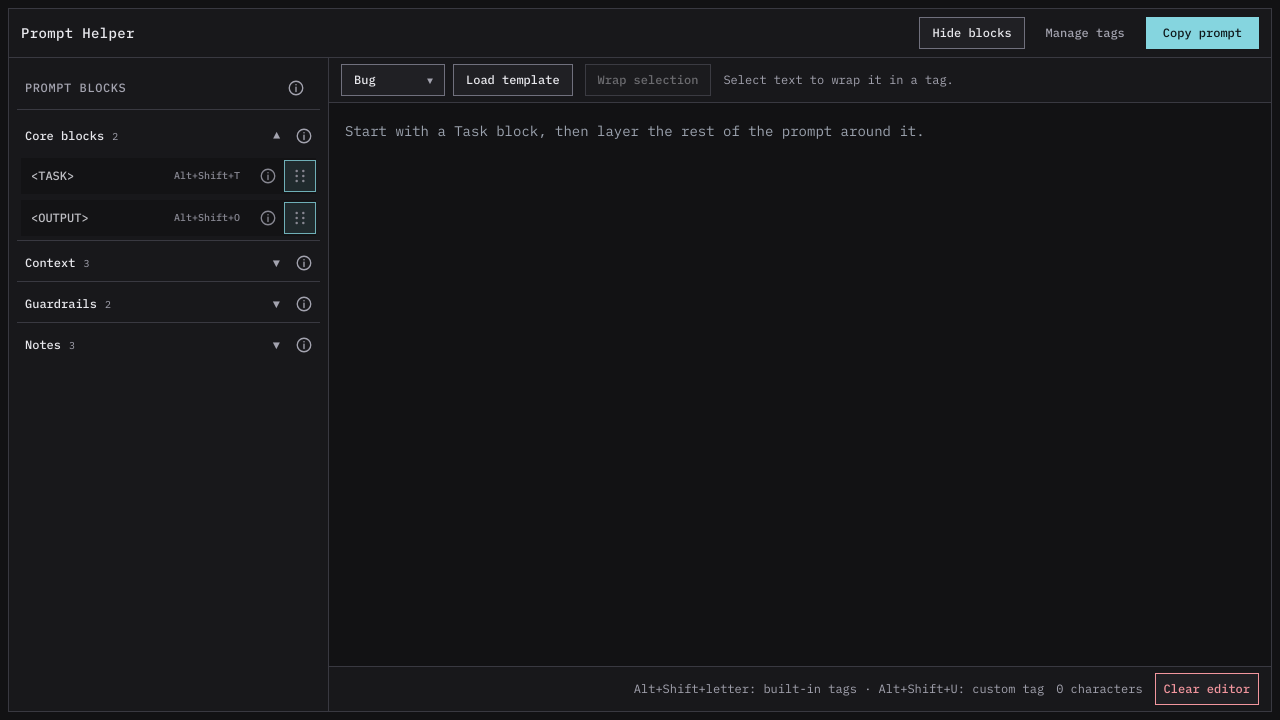
Scenario: Prompt Helper › uses the browser text editing path for selection replacement and deletion
Step 1. Type "Replace this" into the text box named "Prompt editor" → (800,384), box [329, 103, 1271, 666]
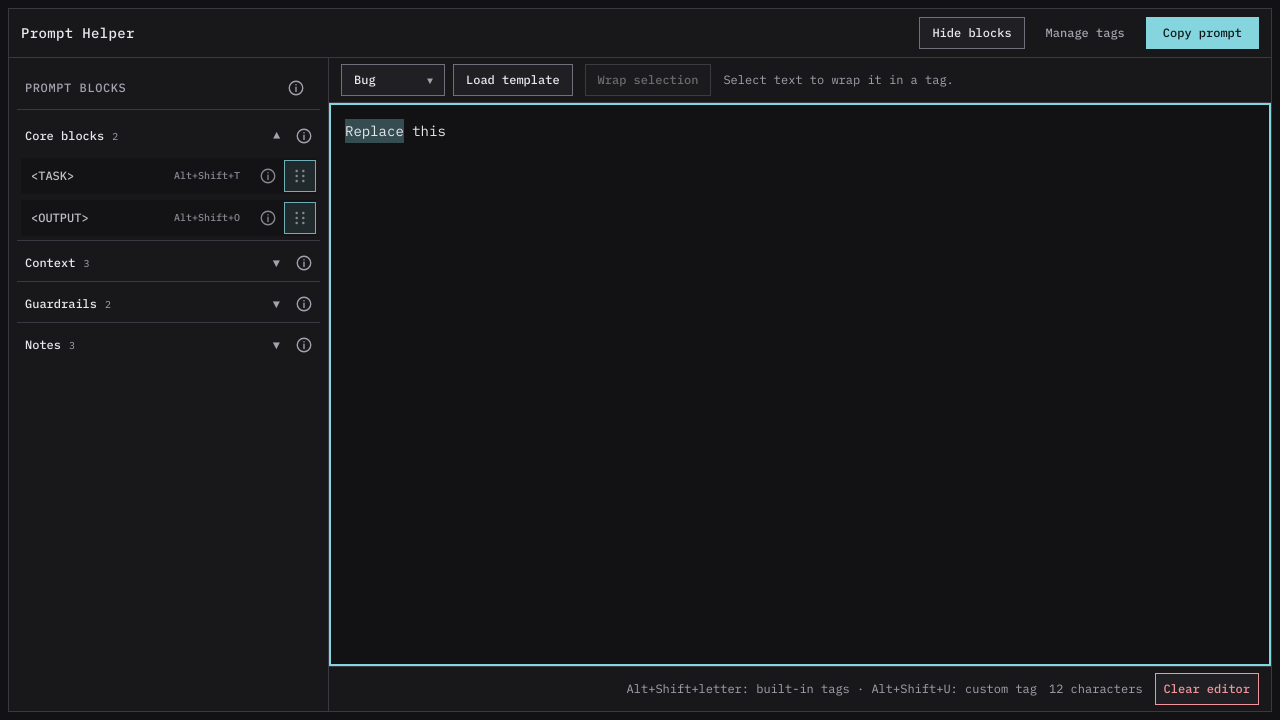
Step 2. Type keys "Keep"
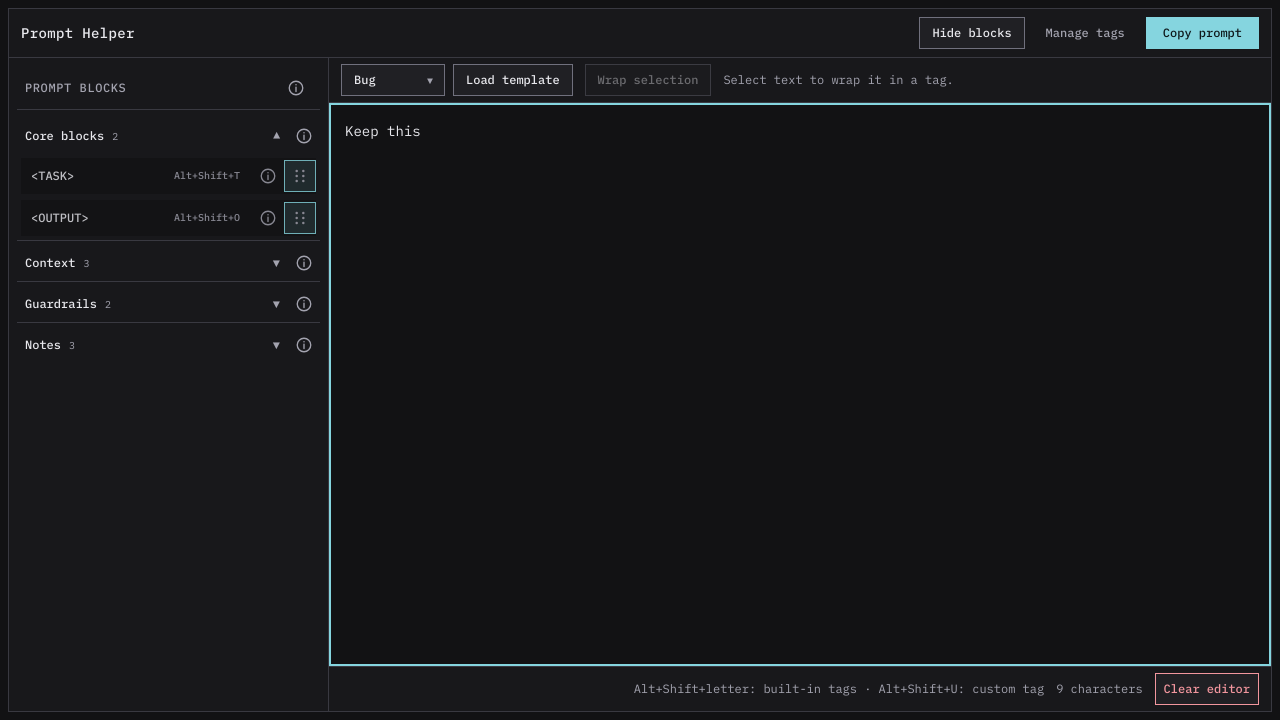
Step 3. Press Backspace
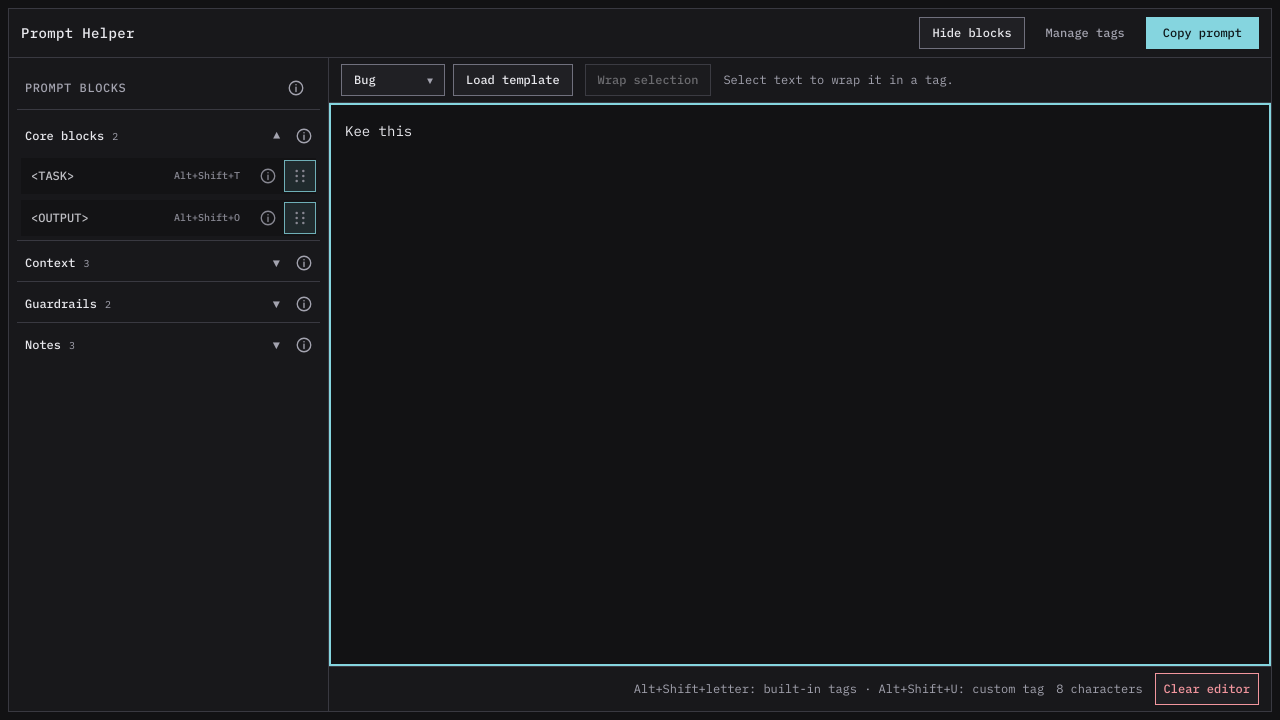
Check: the text box named "Prompt editor" holds "Kee this", box [329, 103, 1271, 666]
